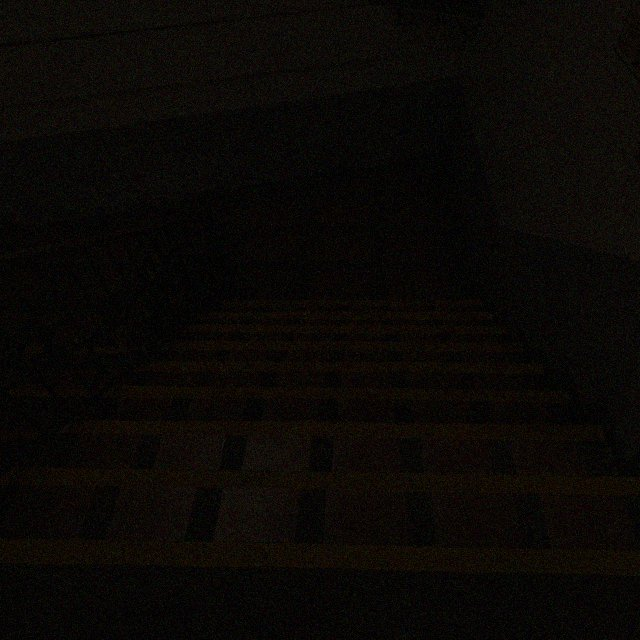stair: (5, 298, 636, 635), (0, 207, 231, 476), (0, 344, 140, 480)
